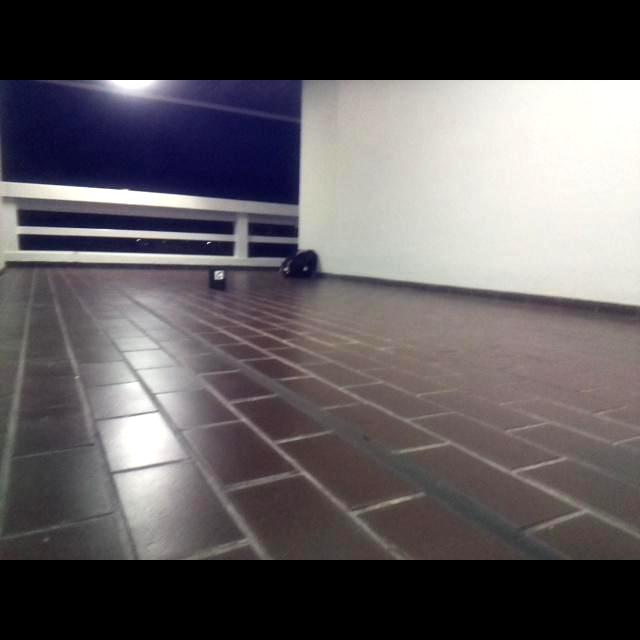C: (216, 271, 222, 280)
